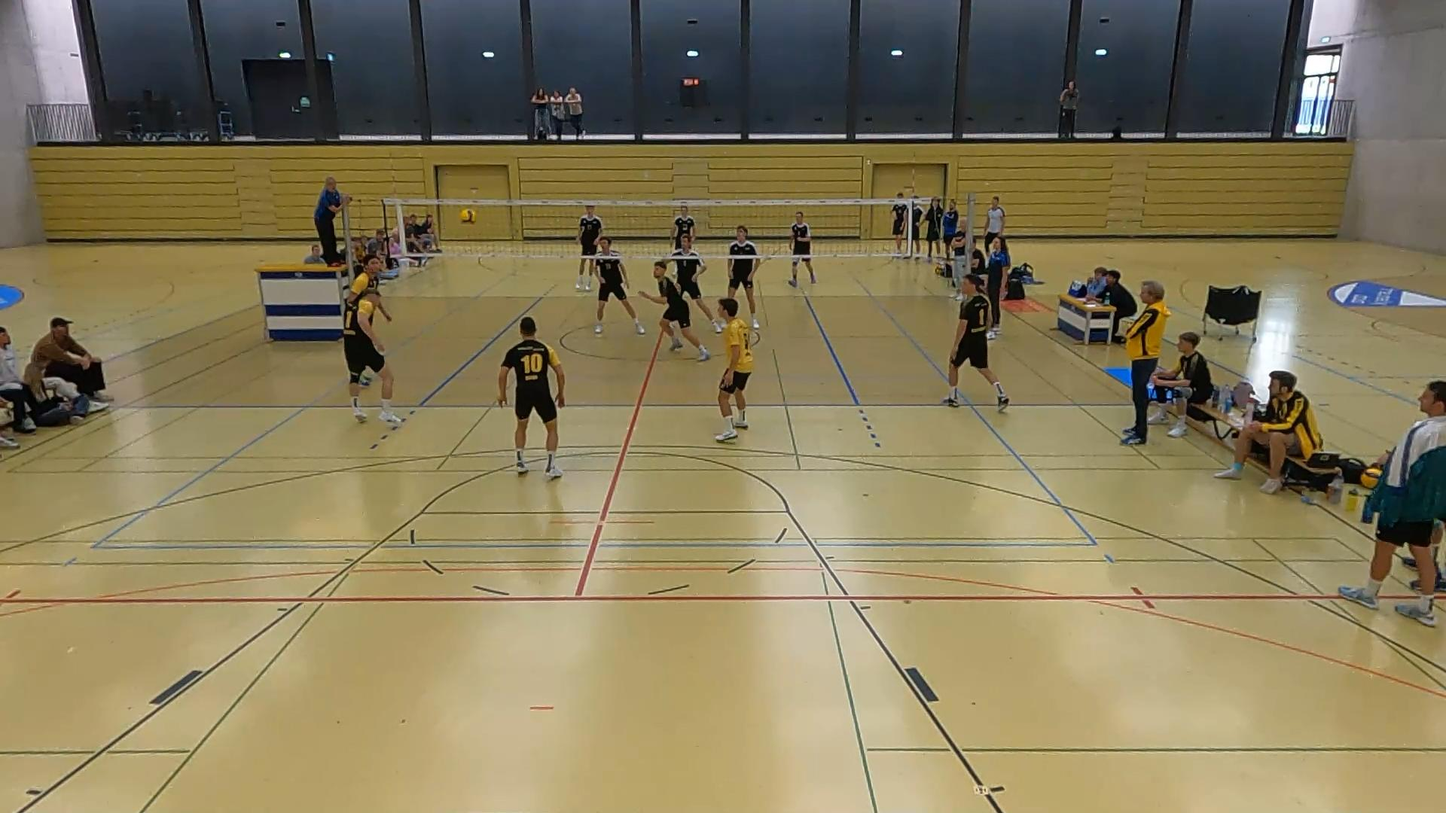Player: (498, 317, 564, 478), (943, 274, 1009, 411), (343, 291, 402, 425), (715, 297, 752, 442), (593, 236, 645, 334), (670, 236, 721, 333), (729, 225, 761, 329), (346, 254, 392, 321), (575, 205, 602, 290), (789, 212, 816, 287), (673, 204, 695, 249)
Set: (635, 260, 720, 364)
ball: (459, 208, 479, 226)
